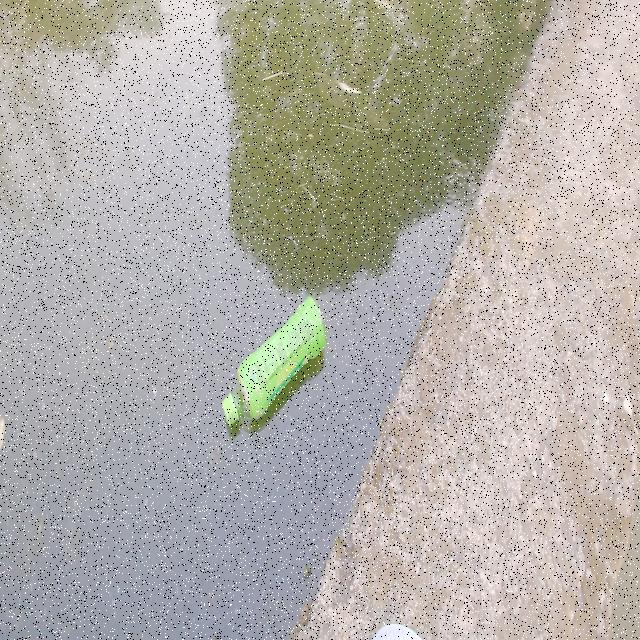Bottle: (220, 288, 329, 435)
